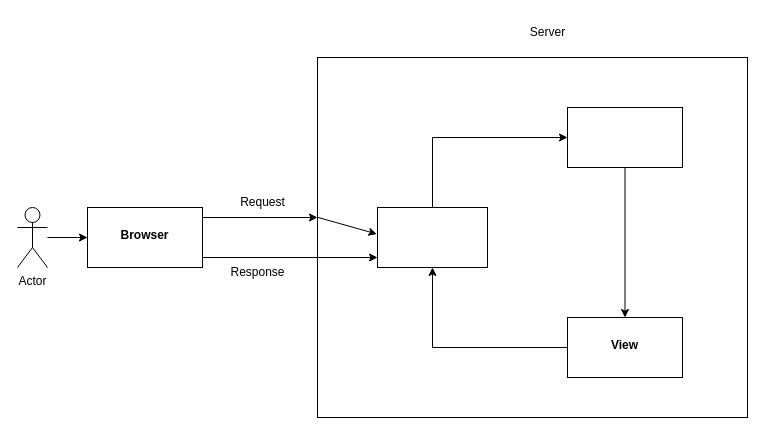
Some shapes in this 765 by 435 pixel diagram are drawn without their labels. The centre of each missing label's shape, as x and y in pixels:
Controller: (x=432, y=237)
Model: (x=624, y=137)
